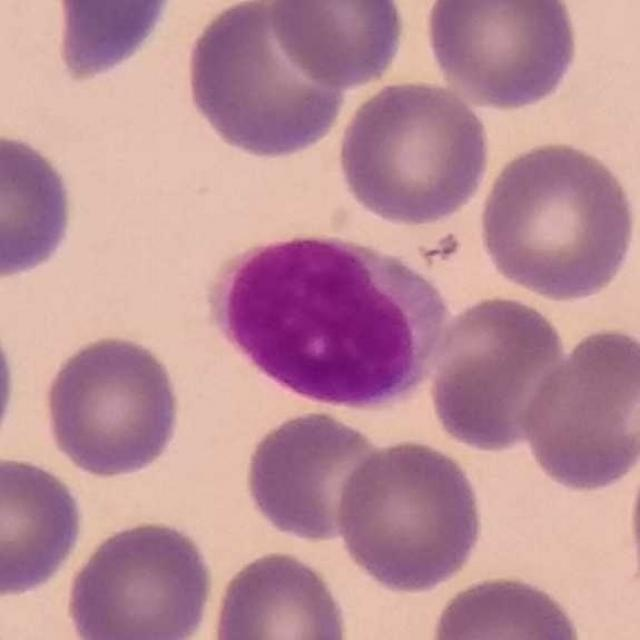Lymphocyte: (209, 227, 458, 414)
RBC: (181, 0, 352, 161), (475, 137, 639, 304), (330, 436, 488, 596), (424, 292, 570, 455), (335, 77, 493, 227), (513, 322, 640, 495), (40, 330, 185, 481), (240, 406, 391, 546), (62, 516, 217, 640), (420, 0, 582, 112), (207, 546, 353, 640), (0, 450, 87, 600), (268, 0, 410, 90), (0, 127, 79, 283), (44, 0, 182, 89), (425, 571, 587, 640), (0, 298, 20, 469)
